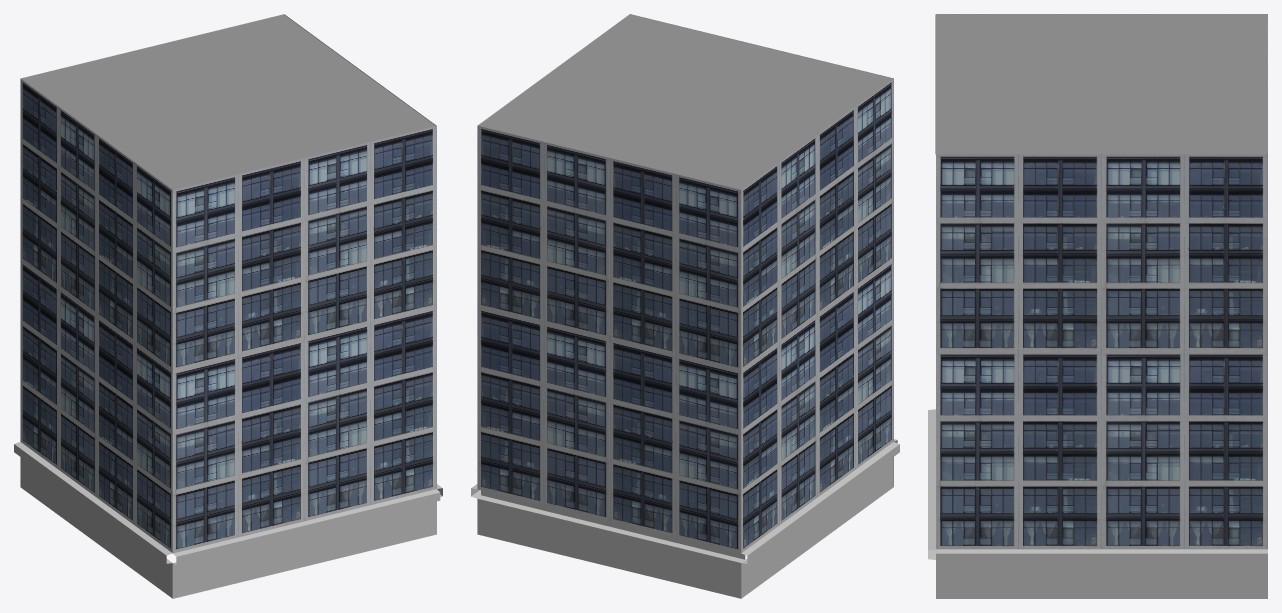
Rendered from Low Poly Building 2.fbx.
3 views of the same model, side by side, from view 1: azimuth 30°, elevation 25°; view 2: azimuth 150°, elevation 25°; view 3: azimuth 270°, elevation 25° (orthographic). The views are drawn at different scales.
Visible parts, largest first — view 1: Building; view 2: Building; view 3: Building.
Part boxes in pixels (<box>): Building: <box>14,14,442,598</box>; Building: <box>471,14,899,598</box>; Building: <box>928,14,1267,598</box>.
Size of the model in its own units: 104 by 148 by 102.
